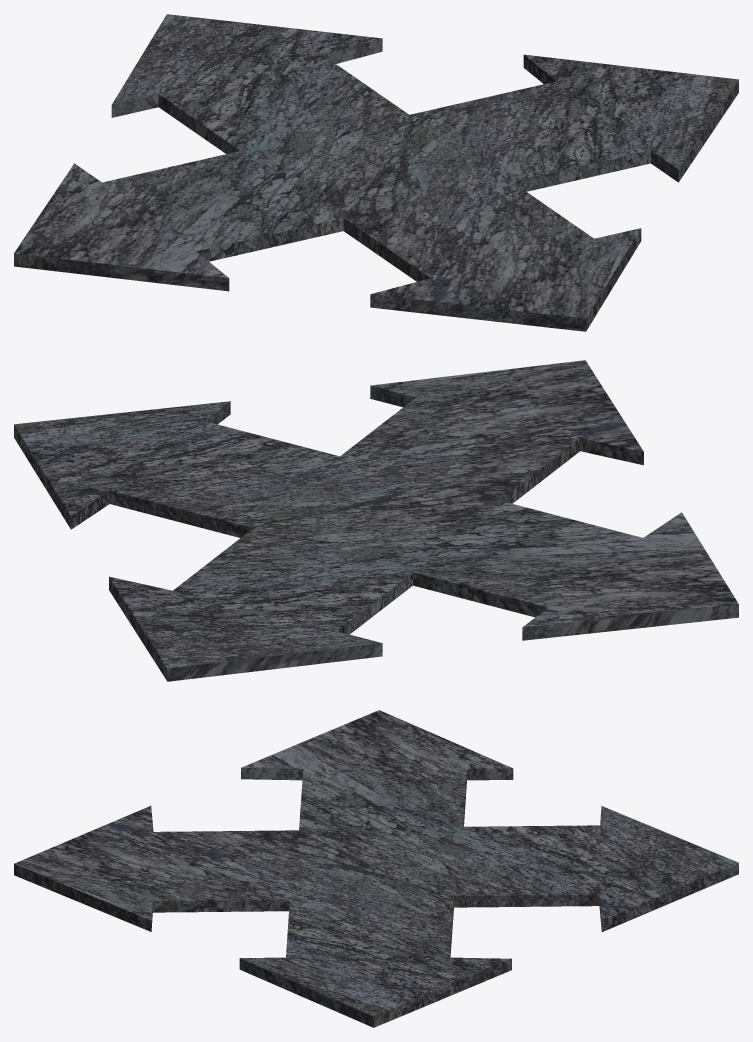
Rendered from TravelIndicator.glb.
3 renders of one model, top to bottom at view 1: azimuth 30°, elevation 25°; view 2: azimuth 150°, elevation 25°; view 3: azimuth 270°, elevation 25°, orthographic. The views are drawn at different scales.
Parts seen in each view (by area): view 1: Plane; view 2: Plane; view 3: Plane.
Part boxes in pixels (x1=…): Plane: x1=14, y1=14, x2=738, y2=331; Plane: x1=14, y1=360, x2=738, y2=681; Plane: x1=14, y1=710, x2=738, y2=1027.
Bounding box in the file's own units: 0.7797 × 0.0136 × 0.7798.
Materials: 1 (1 with a texture image).
